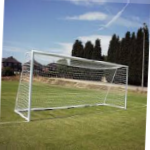goals: (12, 48, 131, 124)
